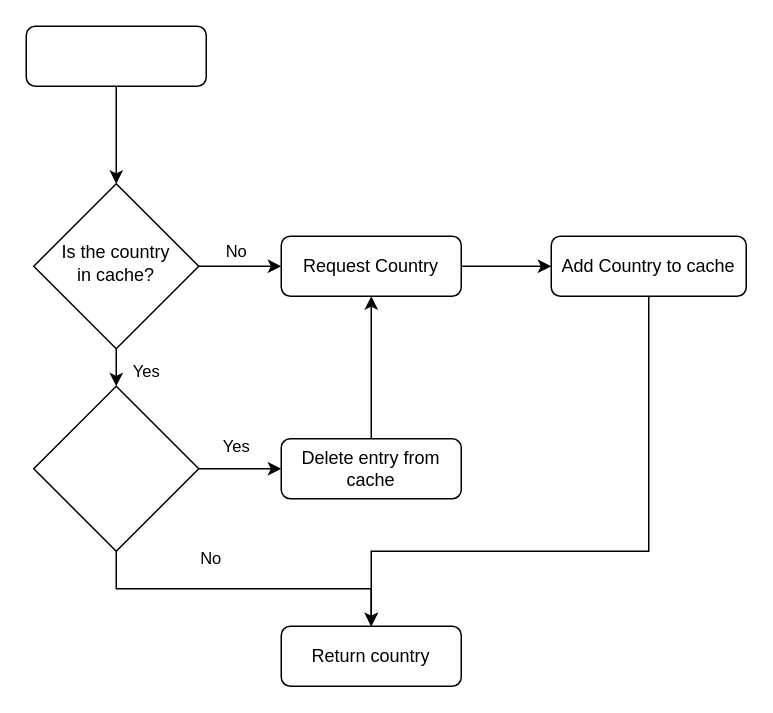
Some shapes in this 773 by 713 pixel diagram are drawn without their labels. Here are the shapes that lost their labels. From the top down, the box of each, then its label:
(25, 25, 206, 86): Get country from cache
(32, 385, 199, 551): Is the entry over 50 days old?
